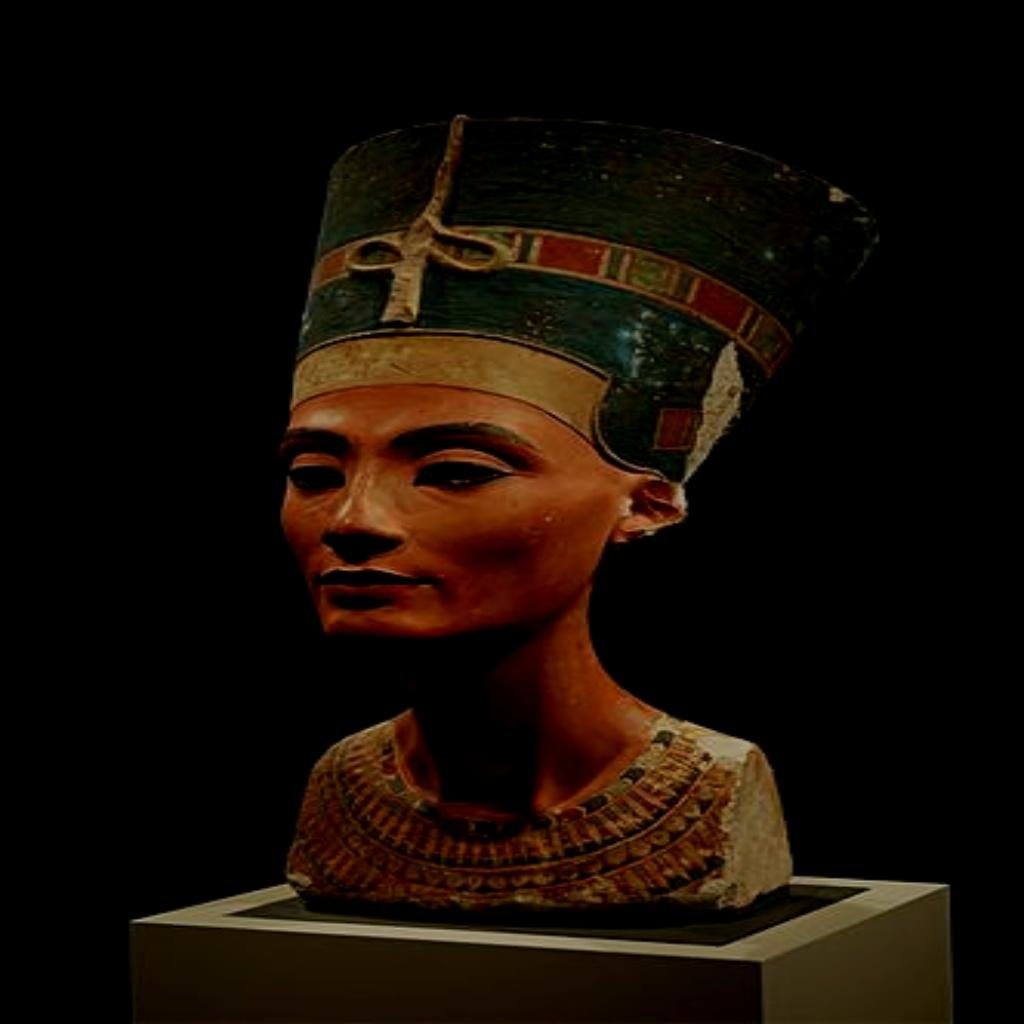Nefertiti: (265, 111, 882, 917)
